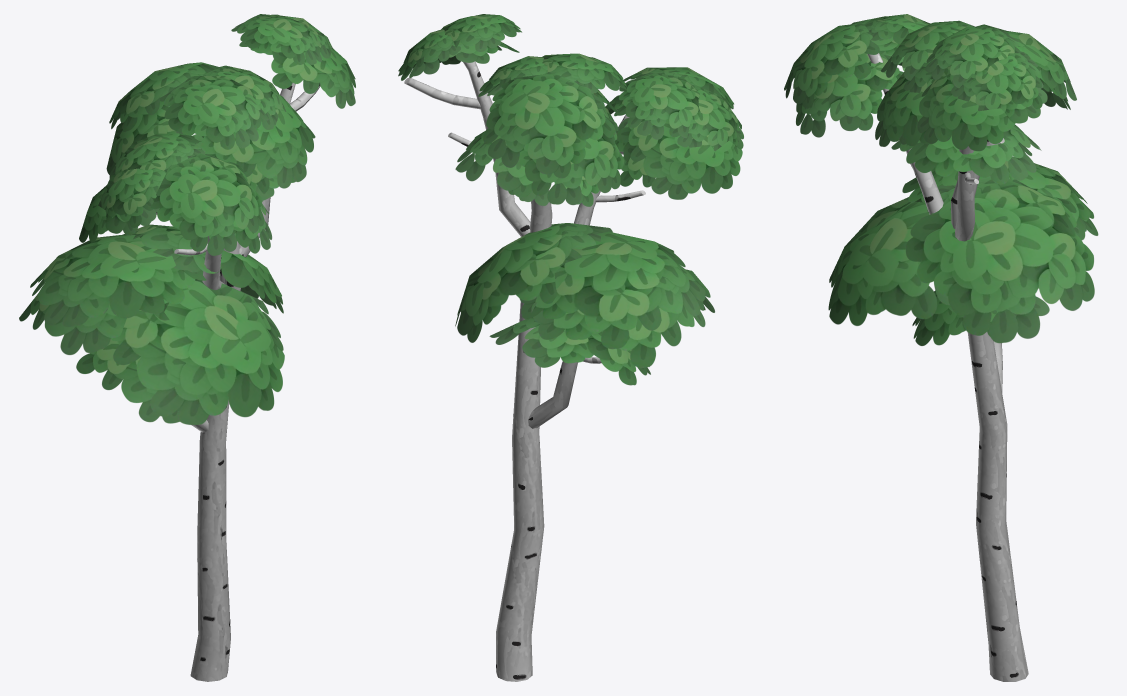
Rendered from tbirch-4.glb.
The picture shows the model from 3 angles, left to right: view 1: azimuth 30°, elevation 25°; view 2: azimuth 150°, elevation 25°; view 3: azimuth 270°, elevation 25°; orthographic projection. The views are drawn at different scales.
Visible parts, largest first — view 1: Birch_4; view 2: Birch_4; view 3: Birch_4.
Boxes of the visible parts, left/top/right/bottom form: Birch_4: left=19, top=14, right=355, bottom=681; Birch_4: left=398, top=14, right=743, bottom=681; Birch_4: left=784, top=14, right=1098, bottom=681.
Size of the model in its own units: 5.17 by 9.99 by 4.5.
2 materials, 2 textured.
